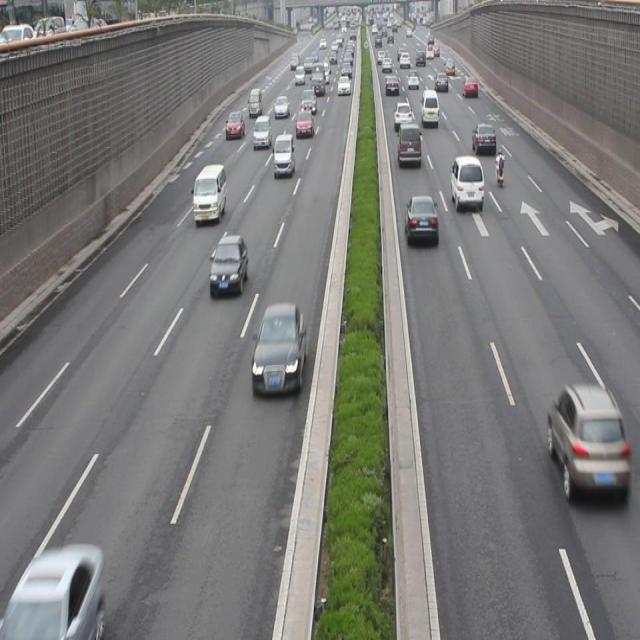car: (1, 543, 104, 640), (544, 382, 628, 497), (251, 302, 305, 396), (208, 234, 248, 295), (404, 193, 439, 244), (472, 121, 496, 156), (225, 108, 245, 140), (294, 108, 314, 140), (392, 100, 412, 129)
truck: (193, 162, 226, 223), (449, 154, 483, 209), (396, 123, 421, 165), (272, 132, 295, 176), (420, 89, 438, 124), (252, 115, 270, 150)
